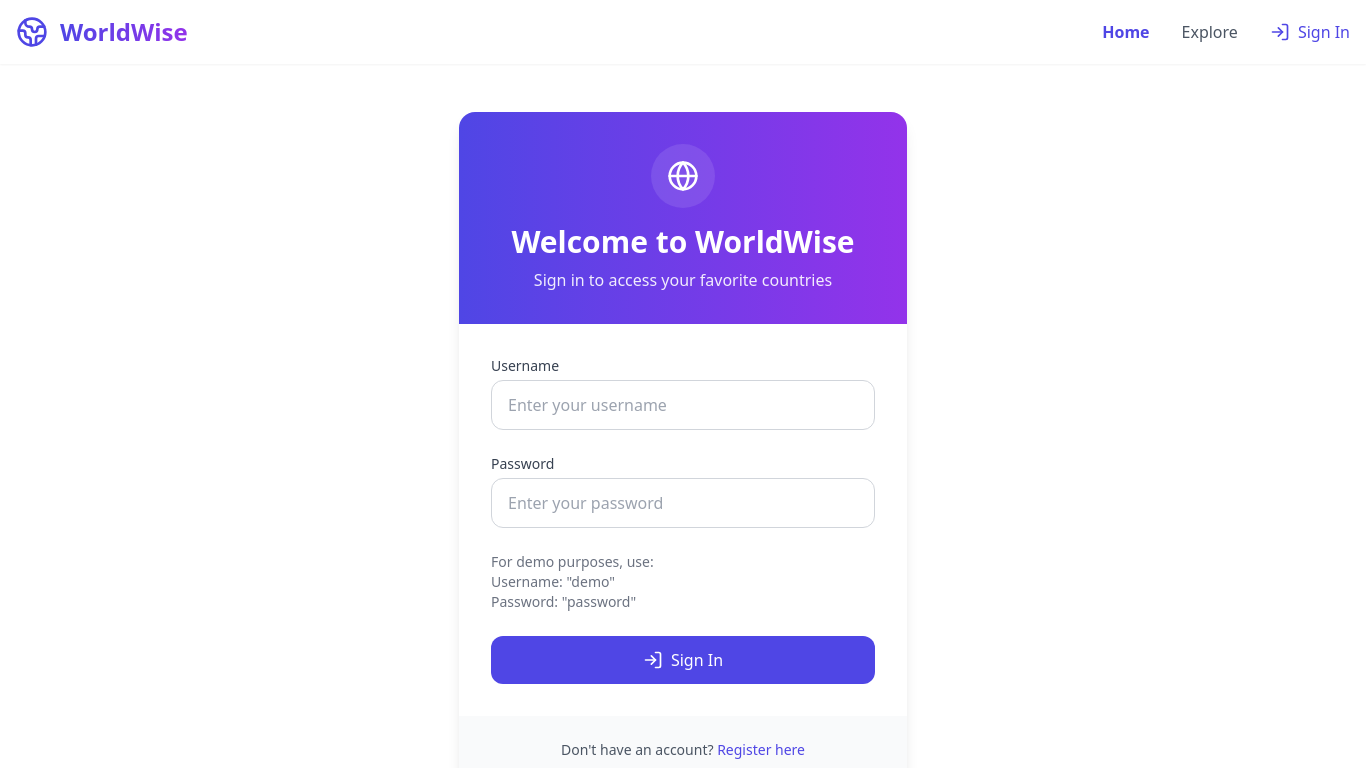
Test: LoginPage › shows validation errors
Click the button "Sign In".
click(683, 660)  # box left=491, top=636, right=875, bottom=684
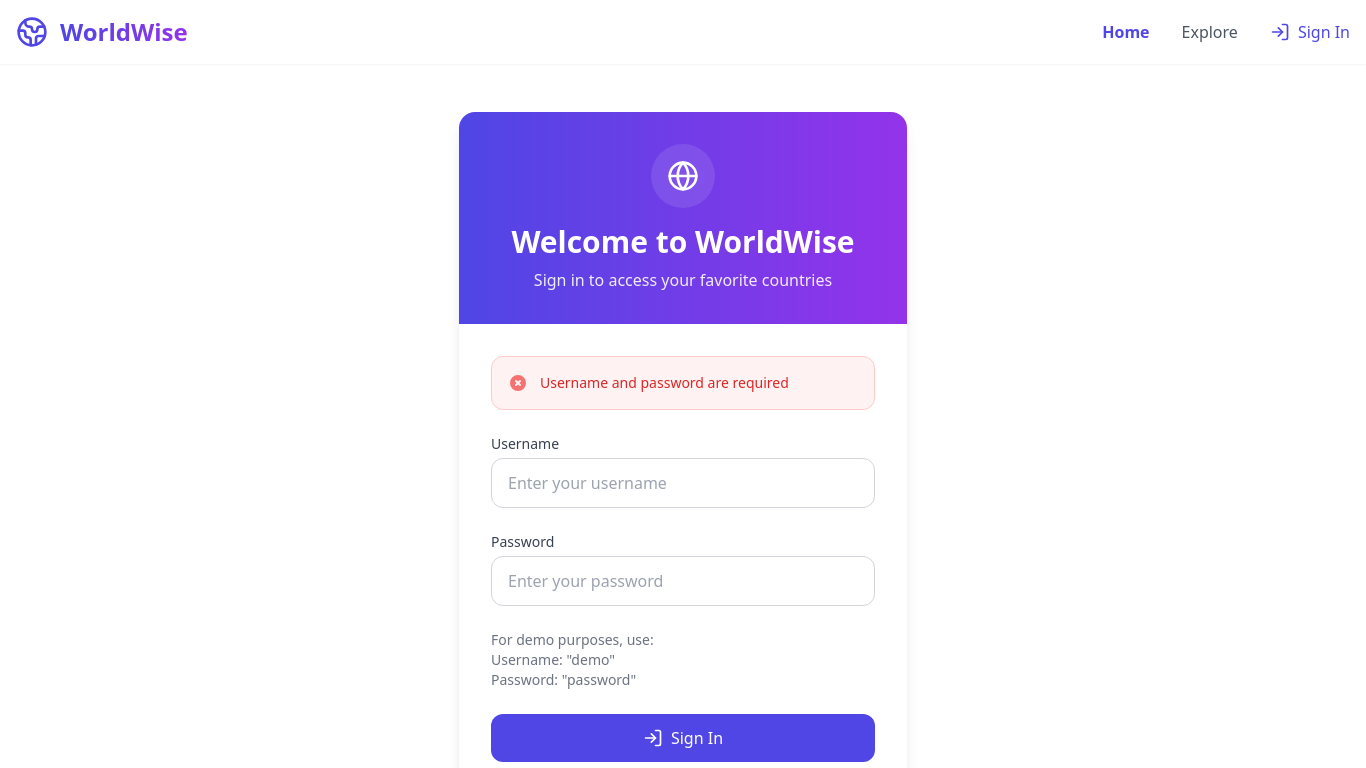
Expected: the text "Username and password are required" is shown, left=540, top=373, right=789, bottom=393
